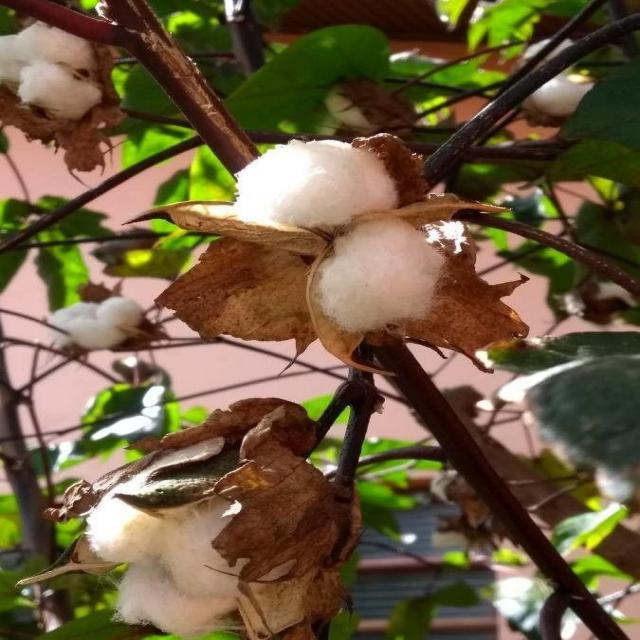Late_blight: (154, 133, 530, 366), (65, 404, 349, 640), (4, 18, 116, 171), (44, 291, 153, 354)
